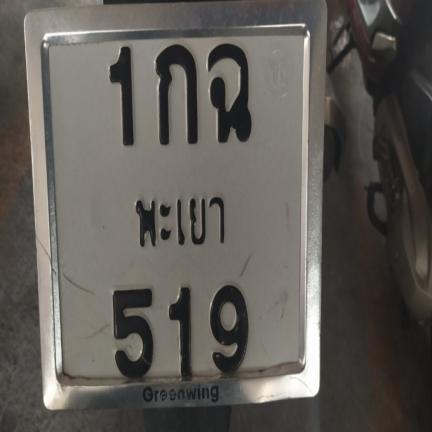1: (100, 45, 143, 146), (162, 282, 197, 381)
5: (105, 281, 159, 383)
9: (202, 277, 252, 374)
A01: (147, 38, 202, 148)
A09: (205, 37, 256, 148)
PYO: (125, 180, 227, 250)
